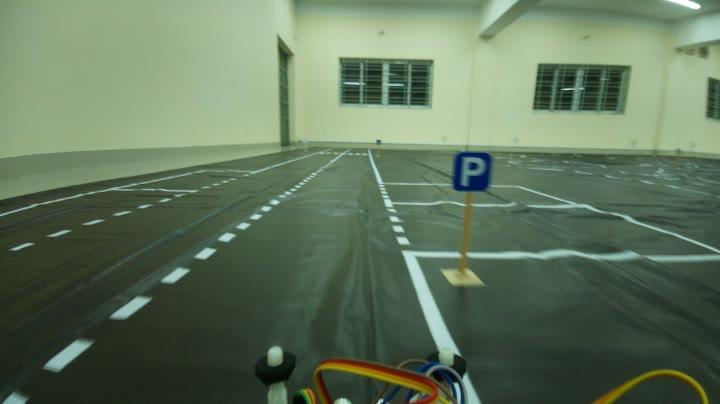parking: (446, 147, 495, 193)
